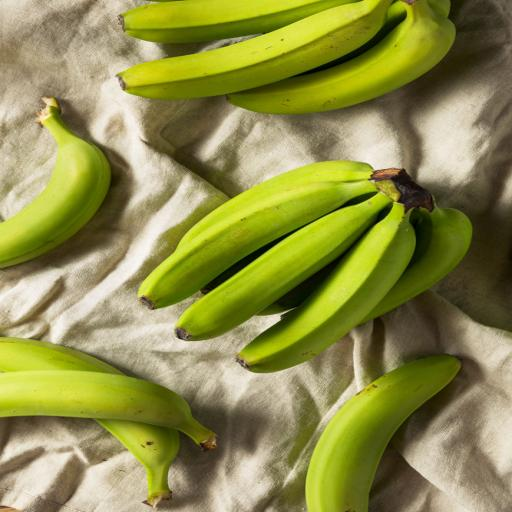banana-unripe: (127, 153, 478, 336), (84, 0, 503, 114), (242, 342, 512, 512), (0, 45, 167, 305), (0, 295, 203, 487)
